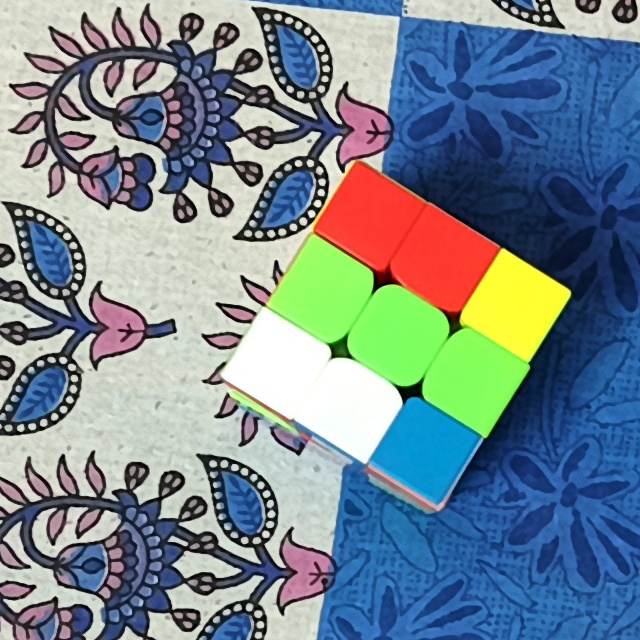tile: (243, 333, 308, 392), (398, 420, 455, 483), (371, 305, 427, 367), (298, 262, 351, 326), (340, 186, 398, 243), (326, 374, 376, 438), (416, 230, 470, 287), (450, 349, 504, 405), (494, 277, 545, 330)
